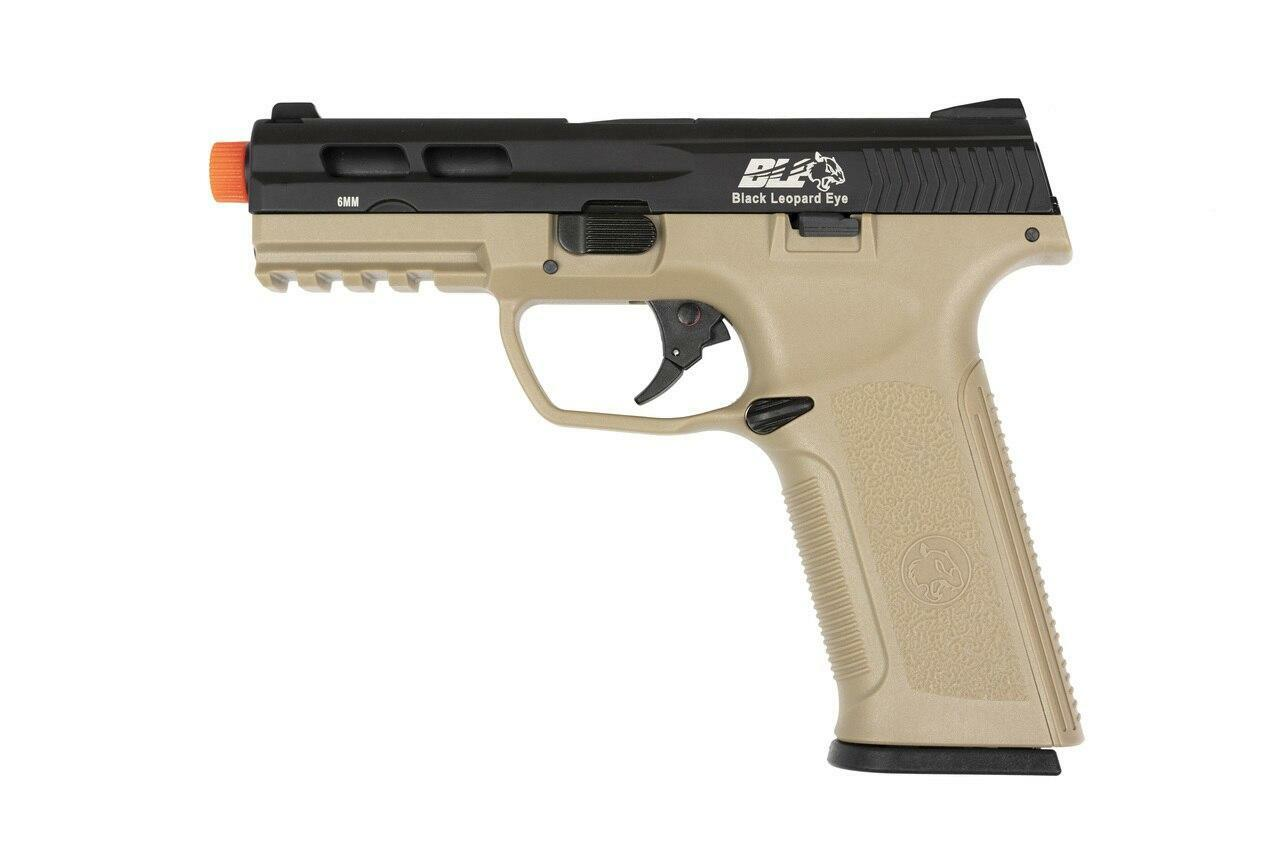asg_ics_ble_xae: (184, 91, 1108, 778)
